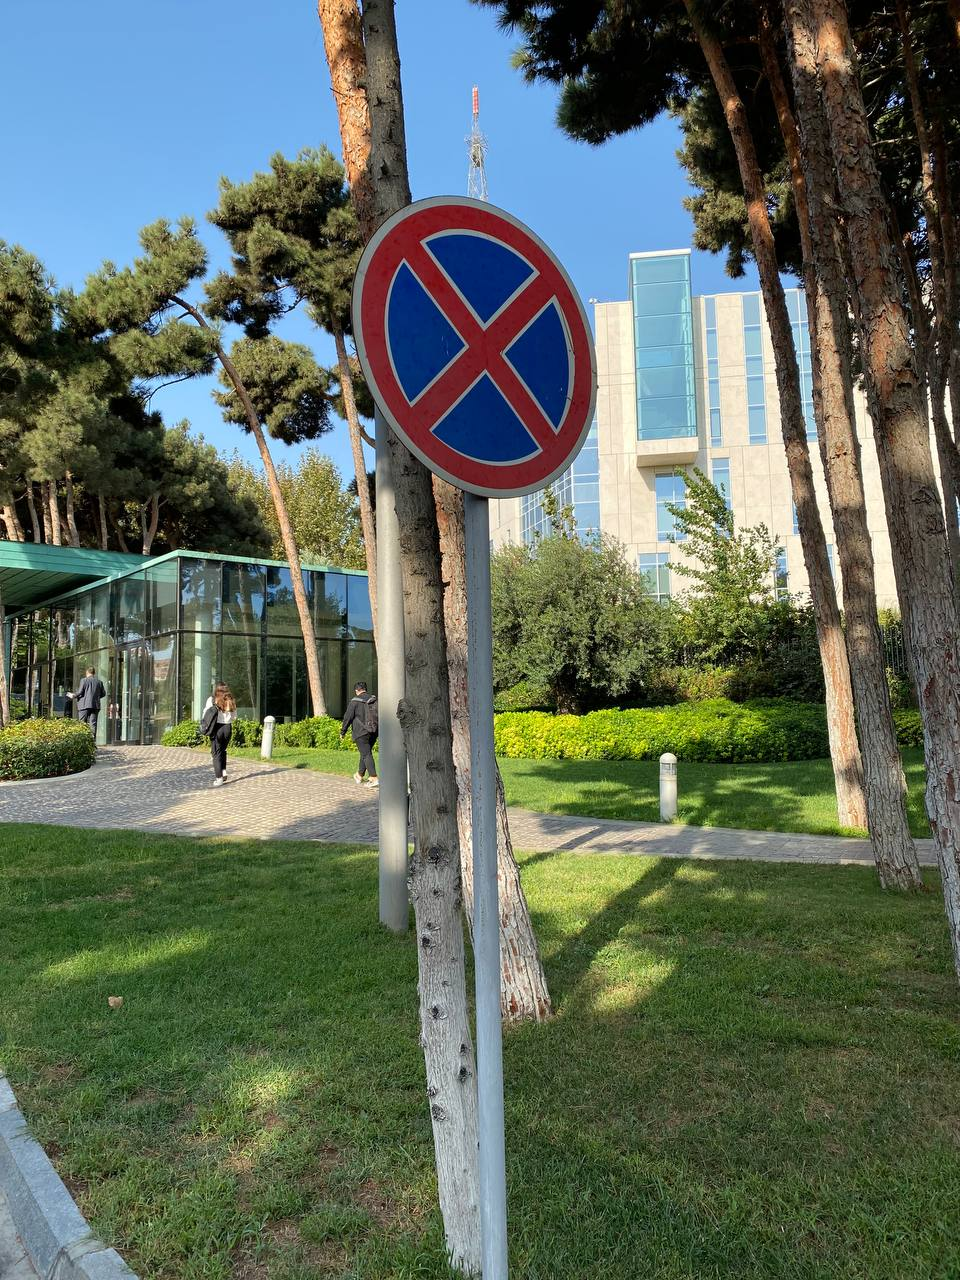No Parking: (351, 195, 600, 500)
